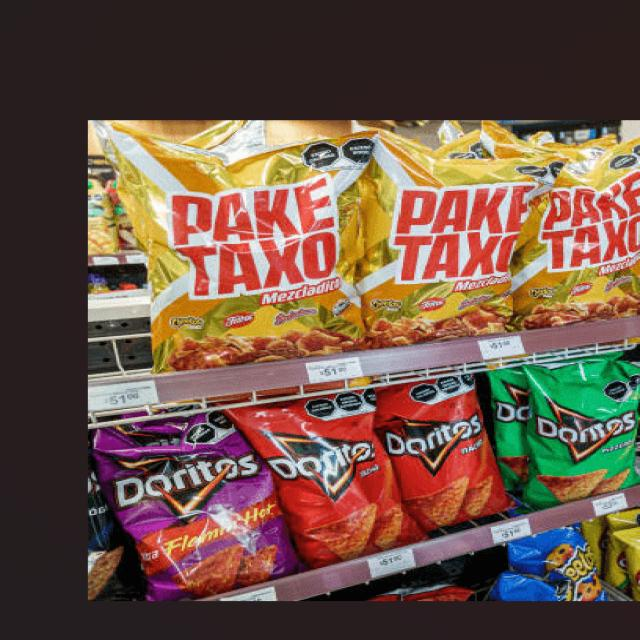doritosNacho: (275, 402, 397, 563), (412, 394, 494, 528)
